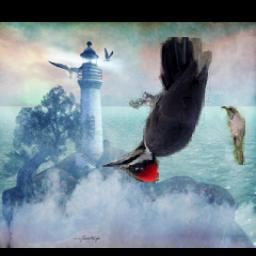Cuckoo: (222, 107, 246, 166)
Woodpecker: (99, 37, 212, 184)
